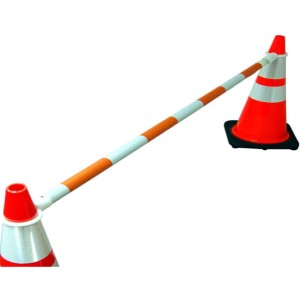traffic cone: (224, 35, 300, 152), (1, 184, 61, 267)
